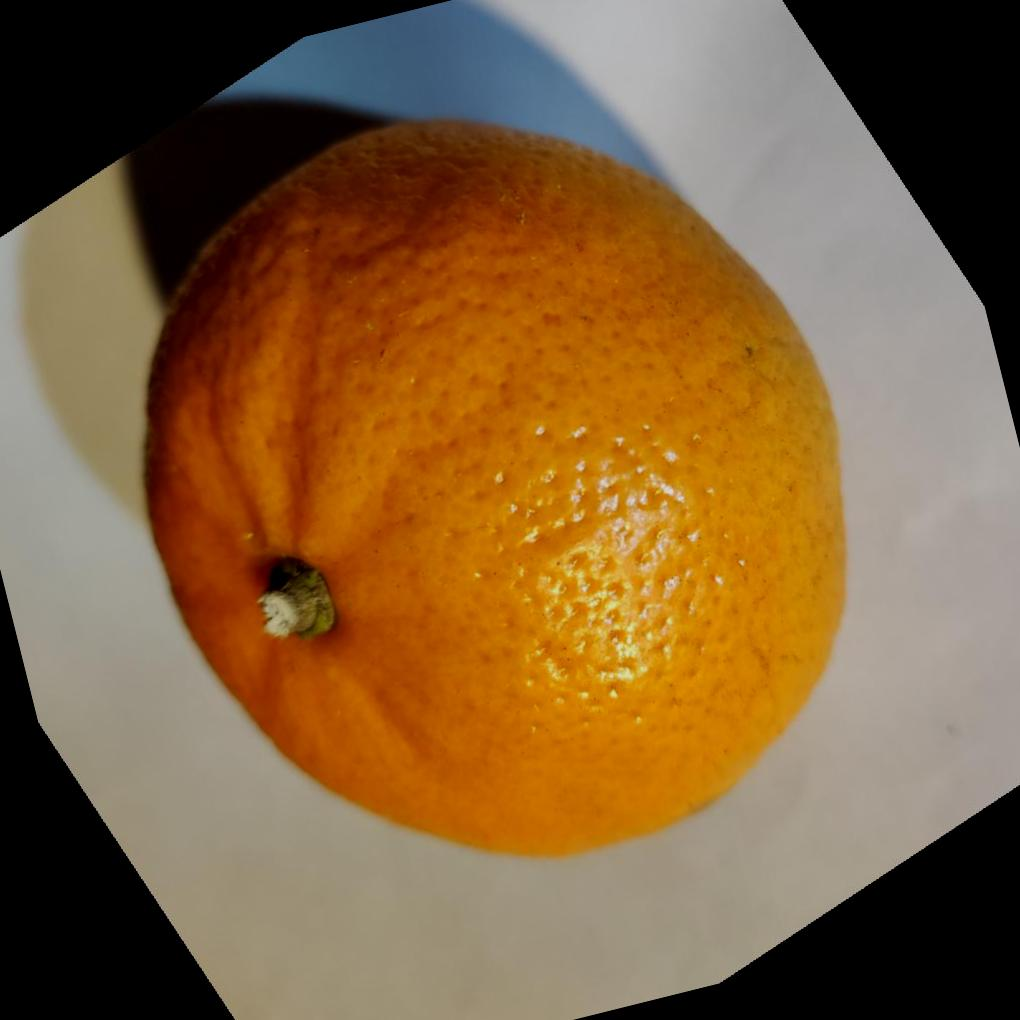FreshGuava: (140, 112, 849, 859)
